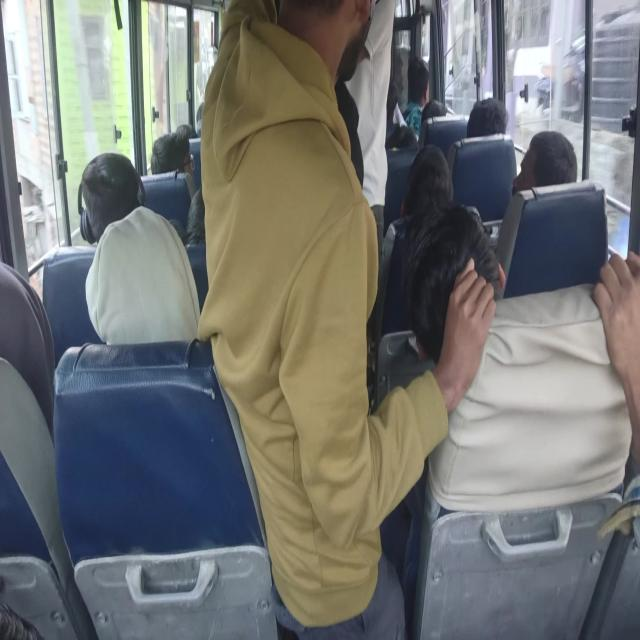person: (270, 0, 359, 219), (72, 226, 216, 361), (409, 204, 504, 328), (318, 0, 386, 117), (0, 289, 52, 421), (523, 127, 580, 191), (402, 156, 451, 226), (85, 148, 139, 203), (183, 183, 228, 245), (154, 133, 206, 174), (463, 98, 514, 138), (412, 98, 444, 137), (389, 122, 421, 160), (407, 63, 429, 93), (176, 114, 200, 138)
